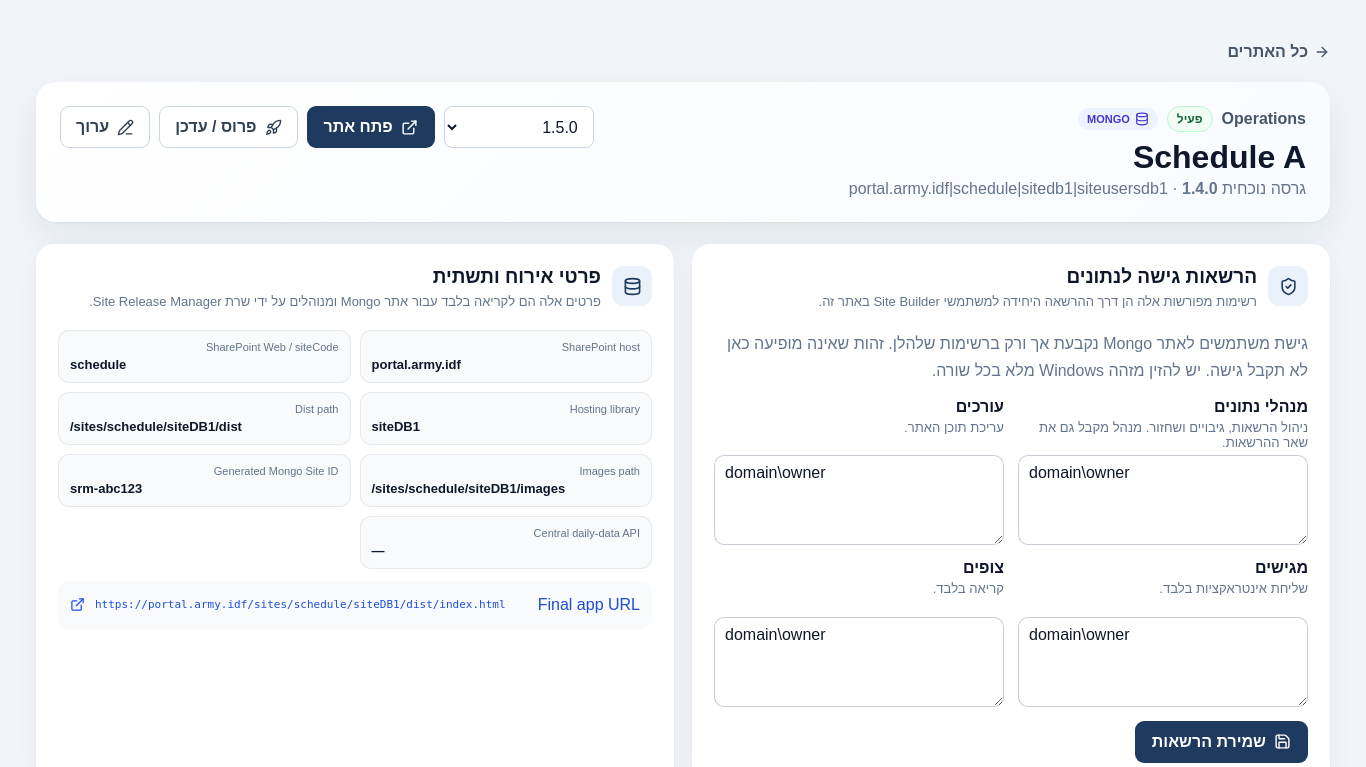
Per-site data access administration › surfaces a management refusal in Hebrew instead of a raw server message
Replace the text in the text box labelled "צופים" with "domain\\reader". click: (859, 662)
box: [714, 617, 1004, 707]
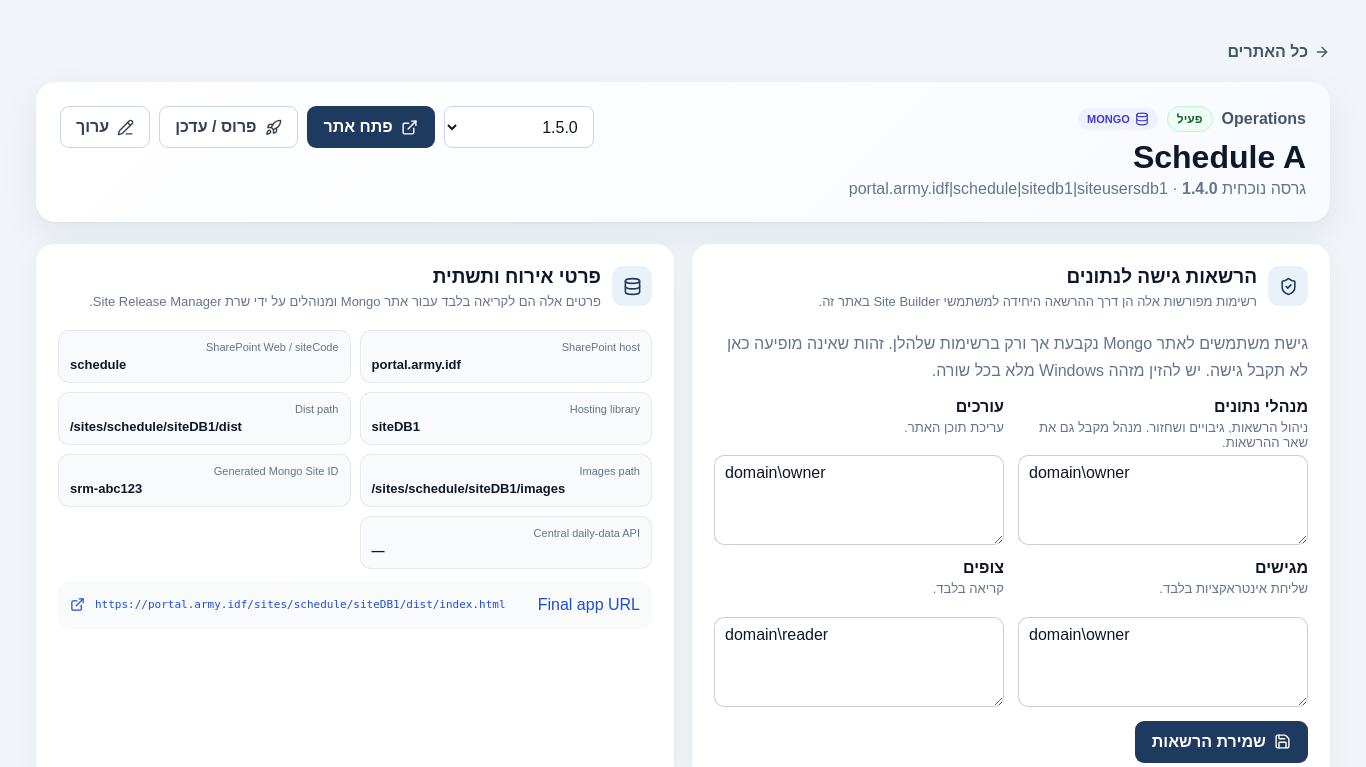
Click the button "שמירת הרשאות". click: (1221, 742)
box: [1135, 721, 1308, 763]
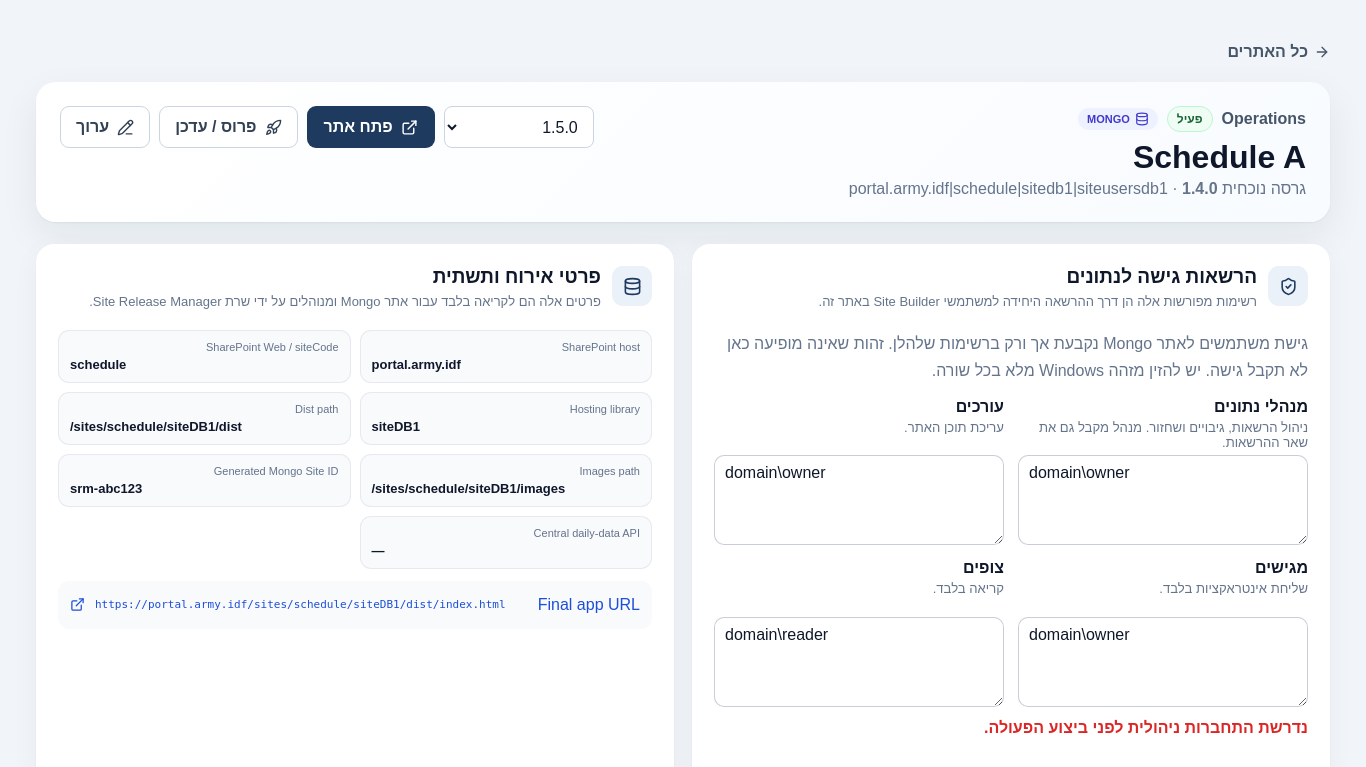
Now the text "נדרשת התחברות ניהולית לפני ביצוע הפעולה." is shown, box [984, 719, 1308, 736]
